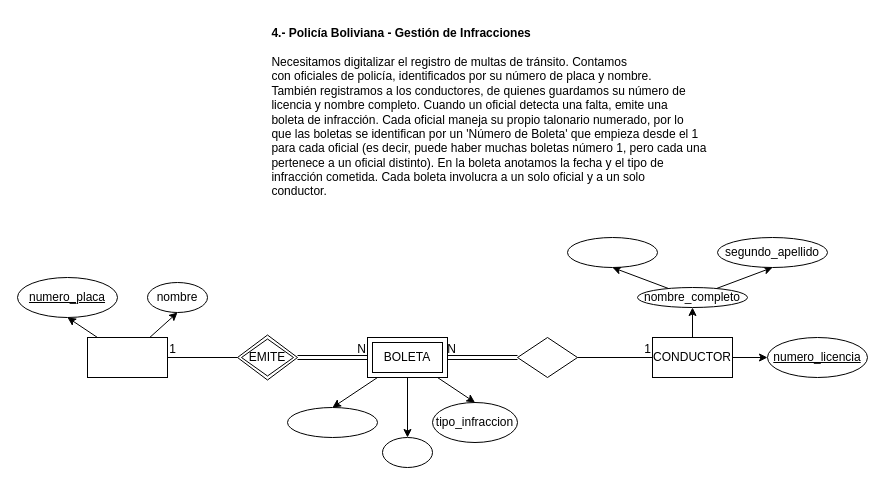
The diagram is 885 pixels wide and 485 high, and some of its shapes have lost their labels. Each missing label, with the centre of its shape:
fecha: [407,452]
numero_boleta: [332,422]
OFICIAL: [127,357]
primer_apellido: [612,252]
RECIBE: [547,357]
